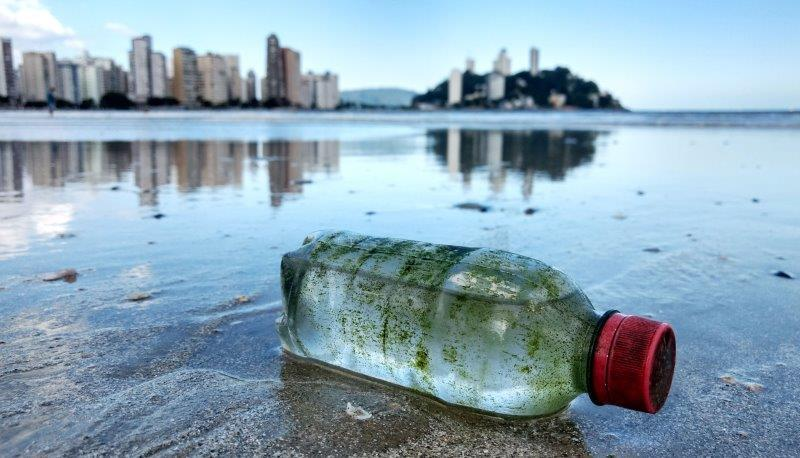plastic: (277, 234, 674, 429)
